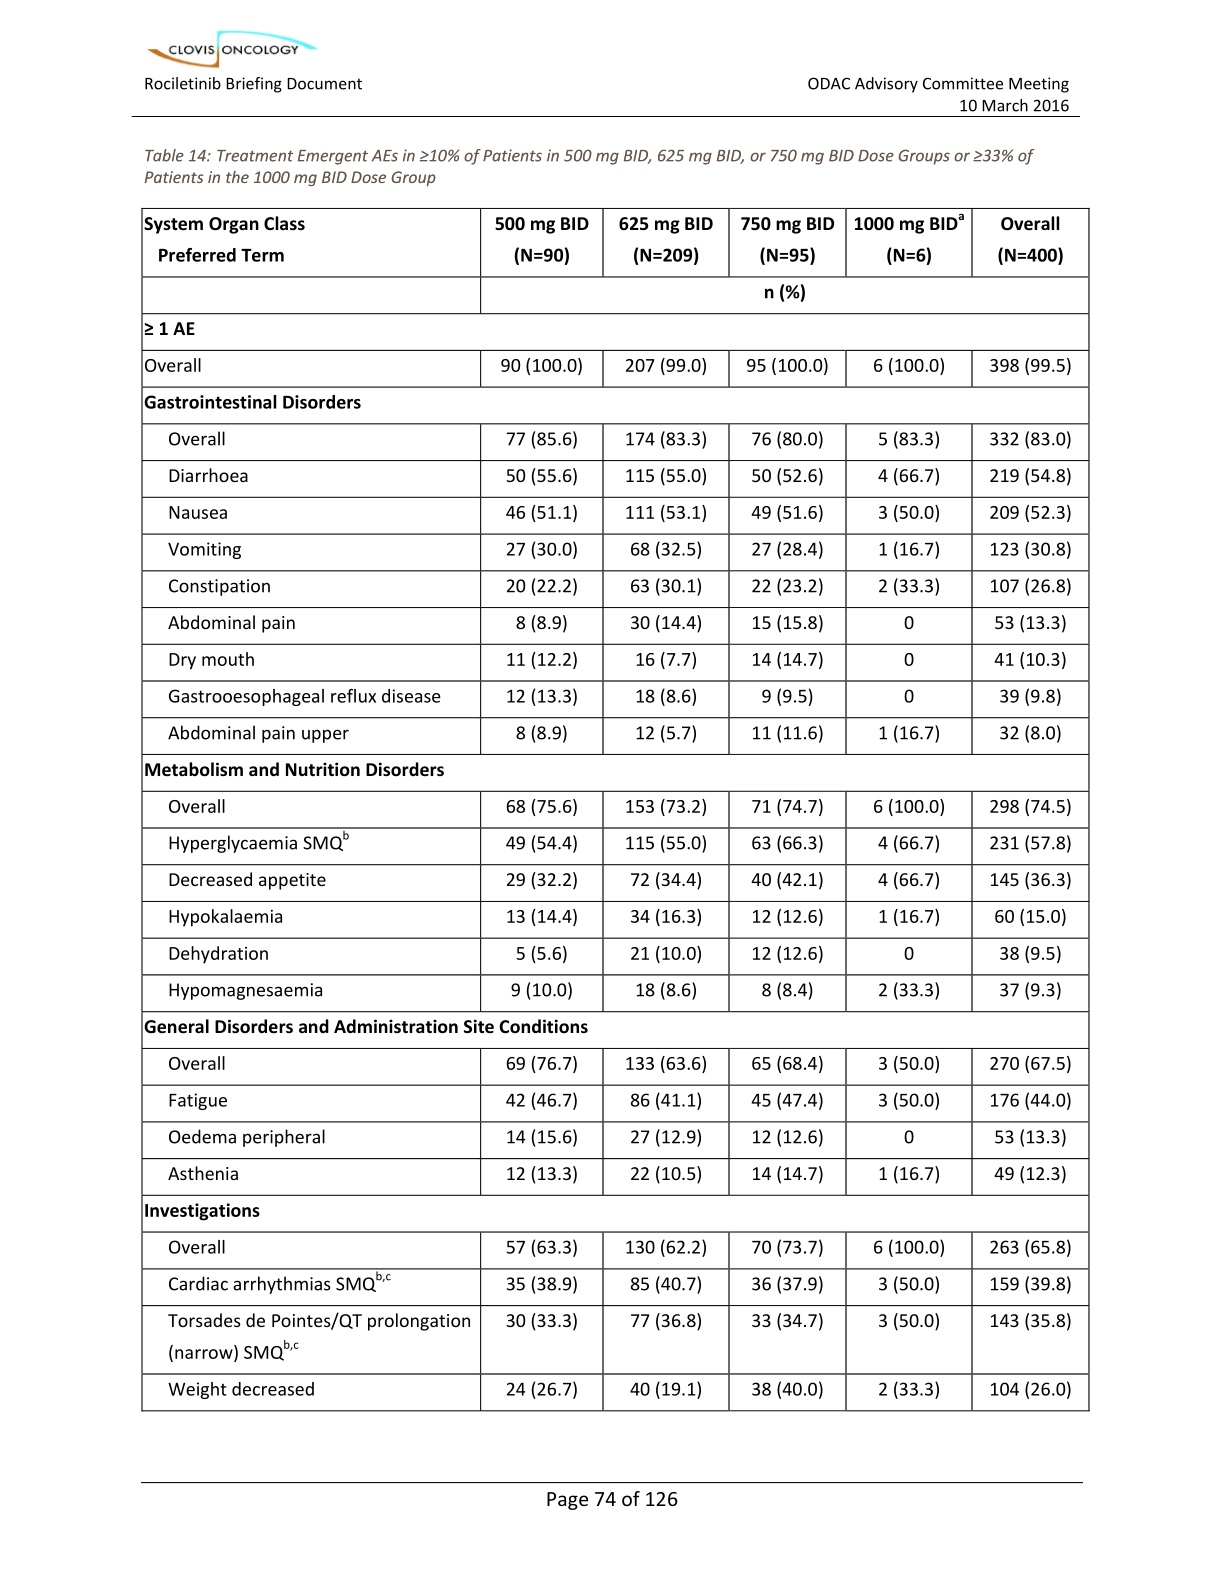merged_cells: (141, 207, 1090, 1412)
